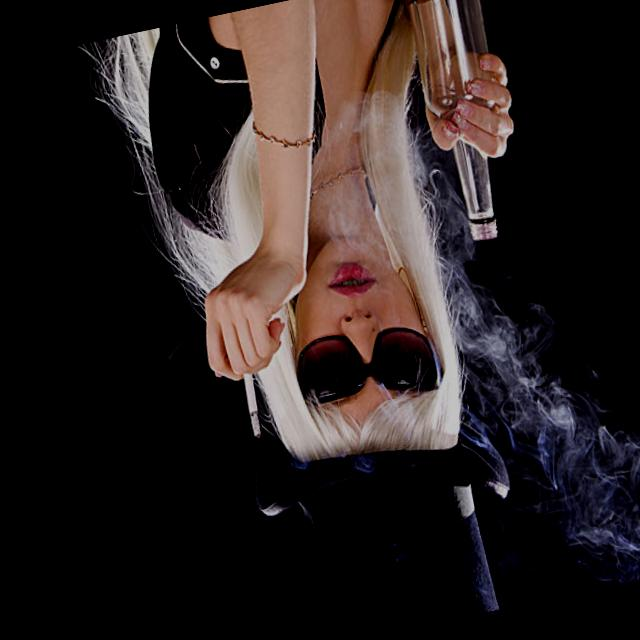smoke: (230, 346, 271, 440)
